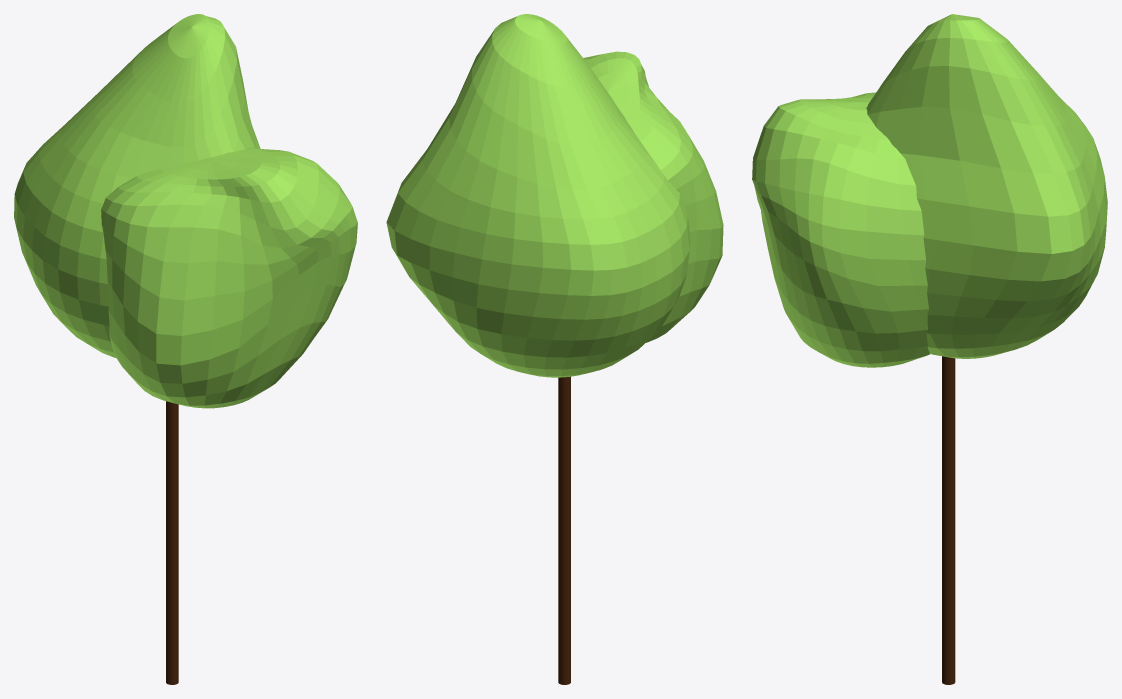
File: tree3.gltf
The picture shows the model from 3 angles, left to right: view 1: azimuth 30°, elevation 25°; view 2: azimuth 150°, elevation 25°; view 3: azimuth 270°, elevation 25°; orthographic projection. The views are drawn at different scales.
Visible parts, largest first — view 1: Sphere.001, Cylinder; view 2: Sphere.001, Cylinder; view 3: Sphere.001, Cylinder.
Boxes of the visible parts, <box> form: Sphere.001: <box>14,14,357,408</box>; Cylinder: <box>166,401,178,684</box>; Sphere.001: <box>386,14,723,377</box>; Cylinder: <box>558,376,570,684</box>; Sphere.001: <box>752,14,1107,367</box>; Cylinder: <box>942,356,955,684</box>.
Bounding box in the file's own units: 2.09 × 5.42 × 2.56.
